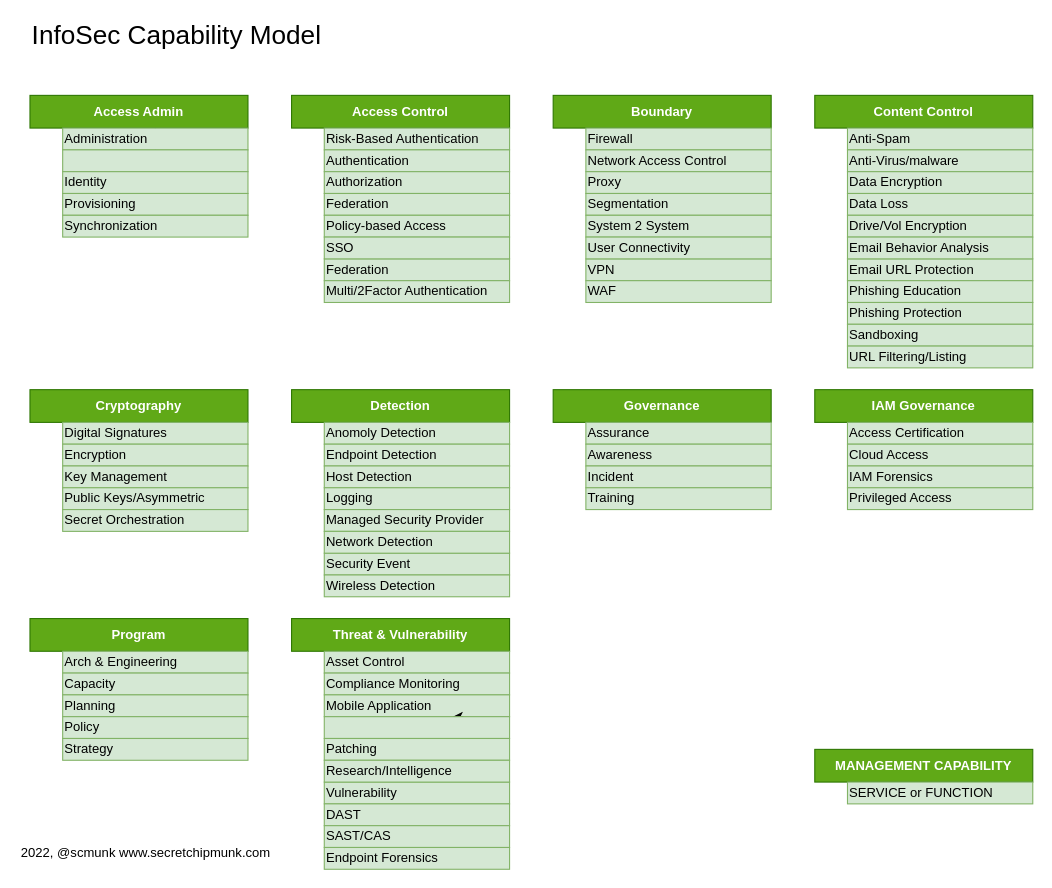
This 1052x888 diagram has some shape labels left out. The shapes that lost their labels are listed below. From the top down, each one's centre as x and y in pixels, then its label:
the point at 155,160: Directory
the point at 416,727: Mobile Device
